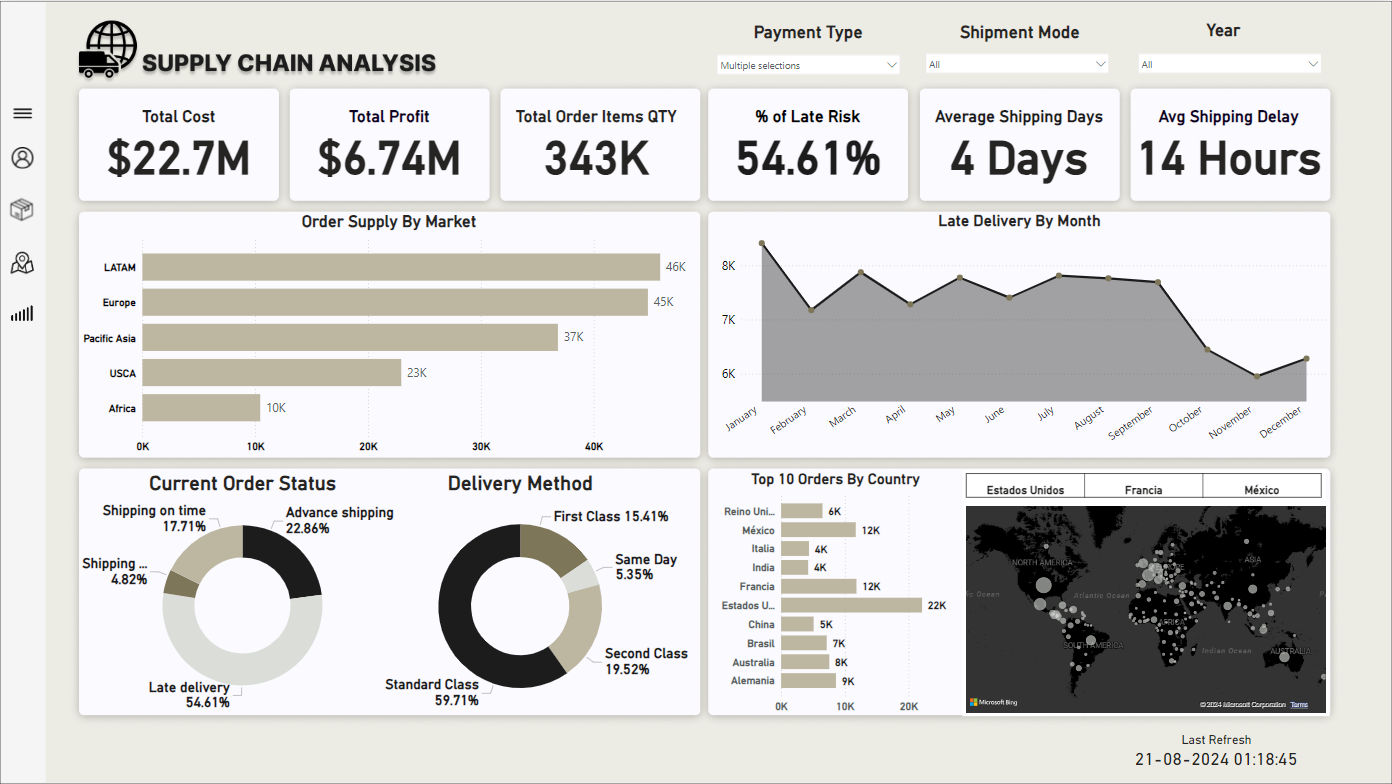

The page's visual inventory and layout, read from the dashboard file:
{"tool":"powerbi","page":{"name":"Supply Chain Analysis","canvas":[1920,1080],"ordinal":0},"visuals":[{"type":"cardVisual","fields":{"Data":["Measure.Sum of Total Orders"]},"box":[684,120,276,156],"z":0},{"type":"actionButton","box":[10.2,122.7,42,66.7],"z":0,"group":"g7"},{"type":"textbox","box":[1658.9,21.1,72.5,42.5],"z":1000,"group":"g1"},{"type":"cardVisual","fields":{"Data":["Measure.Average Shipping Days"]},"box":[1266,120,280,156],"z":1000},{"type":"actionButton","box":[12.2,186.4,38,60],"z":1000,"group":"g7"},{"type":"cardVisual","fields":{"Data":["Measure.Avg Shipoing Delay"]},"box":[1546.7,120,296.7,156.7],"z":2000},{"type":"actionButton","box":[5.9,243.4,49.3,88.6],"z":2000,"group":"g7"},{"type":"cardVisual","fields":{"Data":["Measure.Total Profit"]},"box":[385,120,305,156.7],"z":3000},{"type":"image","box":[8.4,329,44.5,63],"z":3000,"group":"g7"},{"type":"cardVisual","fields":{"Data":["Measure.Total Cost"]},"box":[108,120,276,156],"z":4000},{"type":"image","box":[4,389,54,88],"z":4000,"group":"g7"},{"type":"cardVisual","fields":{"Data":["Measure.% of Late Risk Orders"]},"box":[976,120,276,156],"z":5000},{"type":"group","id":"g1","title":"Group 1","box":[1658.9,21.1,72.2,42.2],"z":6000},{"type":"group","id":"g2","title":"Group 2","box":[977.7,63.1,274.6,45.4],"z":7000},{"type":"group","id":"g3","title":"Group 2","box":[1265.7,62.9,274.3,45.7],"z":8000},{"type":"group","id":"g4","title":"Group 2","box":[1558.6,62.9,275.7,45.7],"z":9000},{"type":"textbox","box":[1318.3,23.3,185,50],"z":10000},{"type":"shape","box":[1277.4,73.3,251.4,27.1],"z":10000,"group":"g3"},{"type":"shape","box":[1570.3,73.3,251.4,27.1],"z":10000,"group":"g4"},{"type":"shape","box":[989.4,73.5,251.4,27.1],"z":10000,"group":"g2"},{"type":"textbox","box":[1035,25,176.7,48.3],"z":11000},{"type":"clusteredBarChart","title":"Order Supply By Market","fields":{"Category":["DataCoSupplyChainDataset.Market"],"Y":["Measure.Total Order Count"]},"box":[108,290,856,341],"z":12000},{"type":"slicer","fields":{"Values":["DataCoSupplyChainDataset.Shipping Mode"]},"box":[1265.7,62.9,275,45.6],"z":12500,"group":"g3"},{"type":"slicer","fields":{"Values":["DataCoSupplyChainDataset.Order Year"]},"box":[1558.6,62.9,275,45.6],"z":12500,"group":"g4"},{"type":"slicer","fields":{"Values":["DataCoSupplyChainDataset.Type"]},"box":[977.7,63.1,275,45.6],"z":12500,"group":"g2"},{"type":"card","title":"Last Refresh","fields":{"Values":["Min(Query1.Date Last Refreshed)"]},"box":[1514,1008,328,54],"z":13000},{"type":"areaChart","title":"Late Delivery By Month","fields":{"Category":["DataCoSupplyChainDataset.shipping date (DateOrders).Variation.Date Hierarchy.Year","DataCoSupplyChainDataset.shipping date (DateOrders).Variation.Date Hierarchy.Quarter","DataCoSupplyChainDataset.shipping date (DateOrders).Variation.Date Hierarchy.Month","DataCoSupplyChainDataset.shipping date (DateOrders).Variation.Date Hierarchy.Day"],"Y":["Measure.Late Delivery Count"]},"box":[978,290,857,341],"z":14000},{"type":"barChart","title":"Top 10 Orders By Country","fields":{"Category":["DataCoSupplyChainDataset.Order Country"],"Y":["Measure.Total Order Count"]},"box":[978,646,350,342],"z":15000,"group":"g6"},{"type":"group","id":"g5","title":"Group 3","box":[108,648,856,342],"z":15000},{"type":"donutChart","title":"Current Order Status","fields":{"Series":["DataCoSupplyChainDataset.Delivery Status"],"Y":["Measure.Total Order Count"]},"box":[108,648,452,340],"z":15000,"group":"g5"},{"type":"group","id":"g6","title":"Group 4","box":[978,646,856,342],"z":16000},{"type":"map","fields":{"Size":["Measure.Total Order Count"],"Category":["DataCoSupplyChainDataset.Order Country","DataCoSupplyChainDataset.Order City"]},"box":[1328,690,506,295],"z":16000,"group":"g6"},{"type":"group","id":"g7","title":"Group 5","box":[4,122.7,54,354.3],"z":17000},{"type":"advancedSlicerVisual","fields":{"Values":["DataCoSupplyChainDataset.Order Country"]},"box":[1328.3,646.7,501.7,43.3],"z":17000,"group":"g6"},{"type":"donutChart","title":"Delivery Method","fields":{"Y":["Measure.Total Order Count"],"Series":["DataCoSupplyChainDataset.Shipping Mode"]},"box":[470,648,494,342],"z":17000,"group":"g5"}]}

Visuals, with their boxes on the page's 1920x1080 design canvas (x1, y1, x2, y2). These are canvas units, not pixel positions in the 1392x784 screenshot, which may show the page scaled, cropped or inside an application window:
cardVisual - Measure.Sum of Total Orders: bbox(684, 120, 960, 276)
actionButton: bbox(10, 123, 52, 189)
textbox: bbox(1659, 21, 1731, 64)
cardVisual - Measure.Average Shipping Days: bbox(1266, 120, 1546, 276)
actionButton: bbox(12, 186, 50, 246)
cardVisual - Measure.Avg Shipoing Delay: bbox(1547, 120, 1843, 277)
actionButton: bbox(6, 243, 55, 332)
cardVisual - Measure.Total Profit: bbox(385, 120, 690, 277)
image: bbox(8, 329, 53, 392)
cardVisual - Measure.Total Cost: bbox(108, 120, 384, 276)
image: bbox(4, 389, 58, 477)
cardVisual - Measure.% of Late Risk Orders: bbox(976, 120, 1252, 276)
"Group 1" group: bbox(1659, 21, 1731, 63)
"Group 2" group: bbox(978, 63, 1252, 108)
"Group 2" group: bbox(1266, 63, 1540, 109)
"Group 2" group: bbox(1559, 63, 1834, 109)
textbox: bbox(1318, 23, 1503, 73)
shape: bbox(1277, 73, 1529, 100)
shape: bbox(1570, 73, 1822, 100)
shape: bbox(989, 74, 1241, 101)
textbox: bbox(1035, 25, 1212, 73)
"Order Supply By Market" clusteredBarChart: bbox(108, 290, 964, 631)
slicer - DataCoSupplyChainDataset.Shipping Mode: bbox(1266, 63, 1541, 108)
slicer - DataCoSupplyChainDataset.Order Year: bbox(1559, 63, 1834, 108)
slicer - DataCoSupplyChainDataset.Type: bbox(978, 63, 1253, 109)
"Last Refresh" card: bbox(1514, 1008, 1842, 1062)
"Late Delivery By Month" areaChart: bbox(978, 290, 1835, 631)
"Top 10 Orders By Country" barChart: bbox(978, 646, 1328, 988)
"Group 3" group: bbox(108, 648, 964, 990)
"Current Order Status" donutChart: bbox(108, 648, 560, 988)
"Group 4" group: bbox(978, 646, 1834, 988)
map - Measure.Total Order Count x DataCoSupplyChainDataset.Order Country: bbox(1328, 690, 1834, 985)
"Group 5" group: bbox(4, 123, 58, 477)
advancedSlicerVisual - DataCoSupplyChainDataset.Order Country: bbox(1328, 647, 1830, 690)
"Delivery Method" donutChart: bbox(470, 648, 964, 990)
